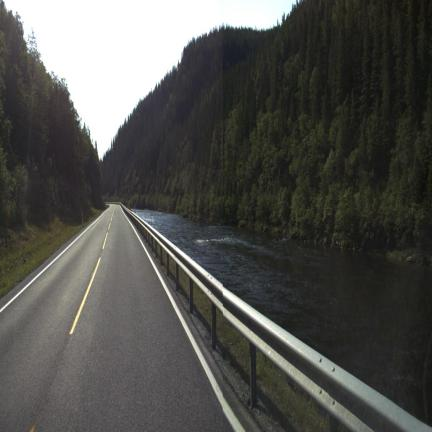Road: (0, 206, 231, 430)
